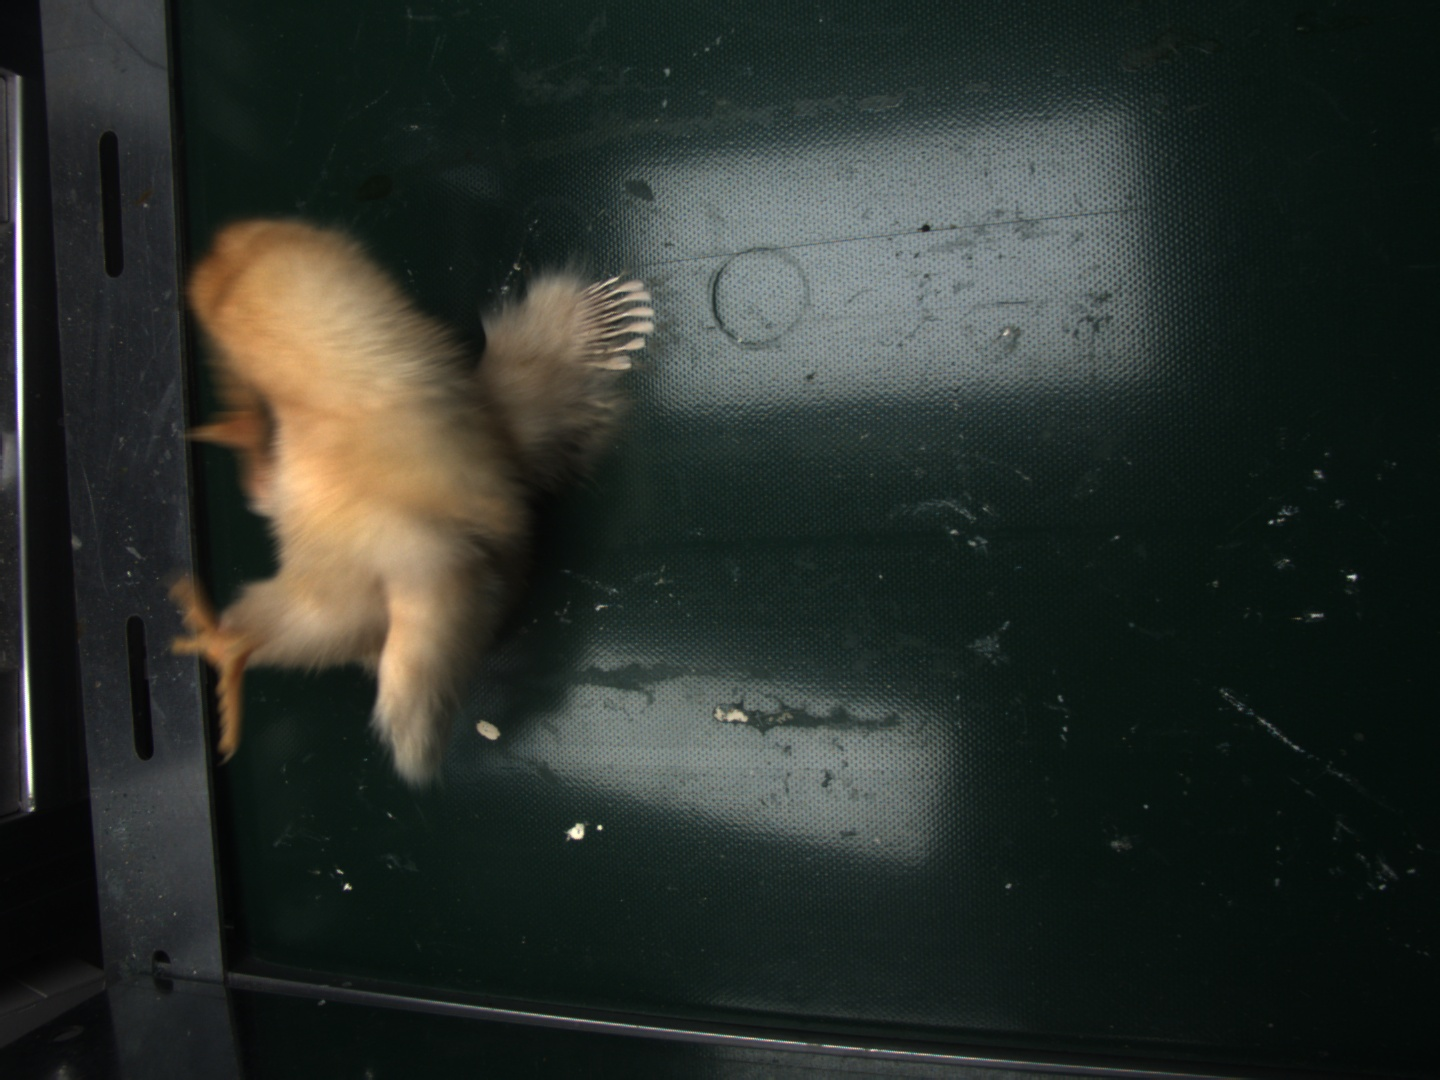female: (581, 279, 655, 369)
